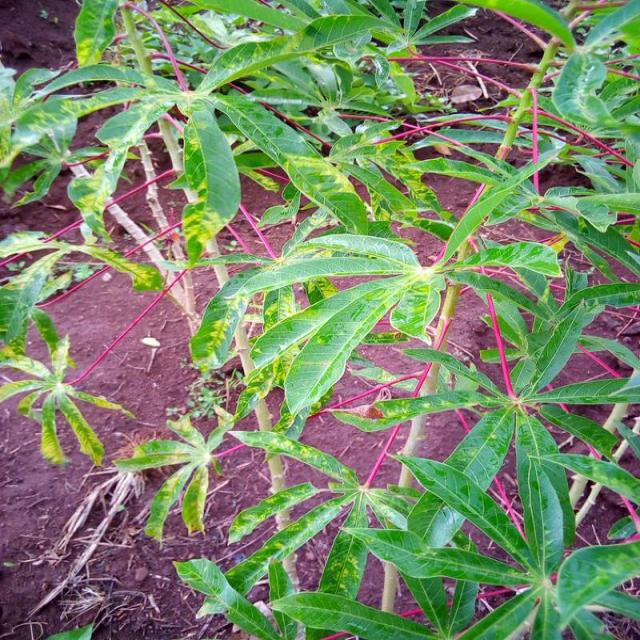cassava leaf: (0, 0, 638, 638), (179, 102, 242, 264)
